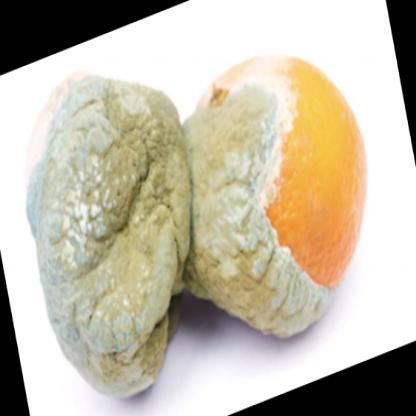rotten_orange: (183, 45, 368, 334)
